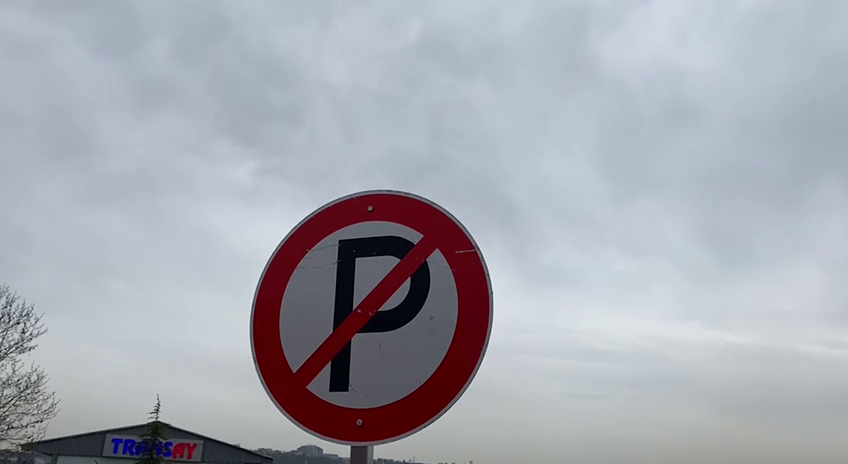noparking: (239, 186, 502, 451)
